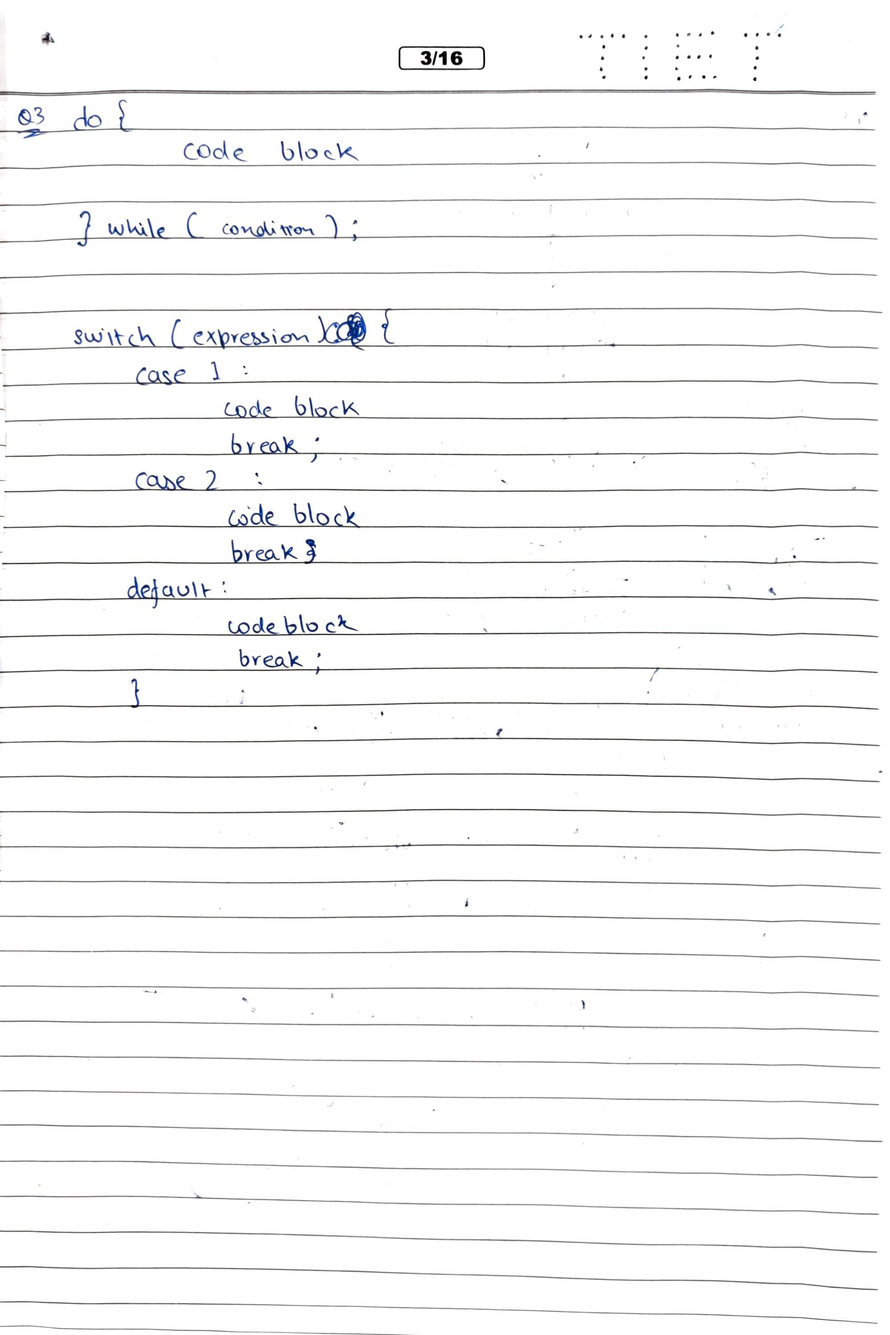cuttings: (325, 311, 367, 351), (304, 538, 317, 565)
